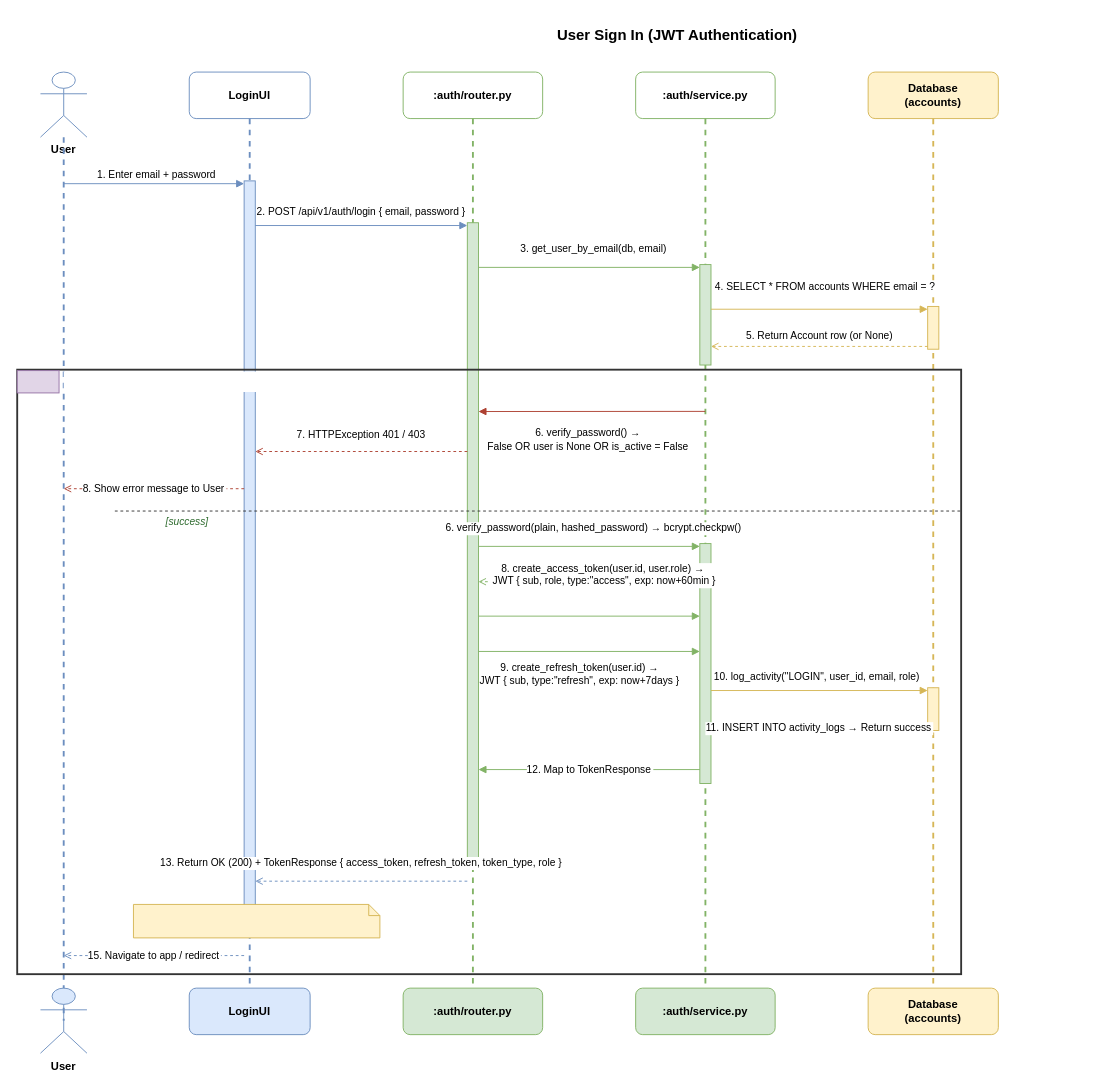
Some shapes in this 1111 by 1088 pixel diagram are drawn without their labels. Each missing label, with the centre of its shape:
"14. Store tokens in localStorage / memory" belongs at [256,920].
"[failed] user not found | wrong password | is_active = False" belongs at [199,381].
"alt" belongs at [37,381].
